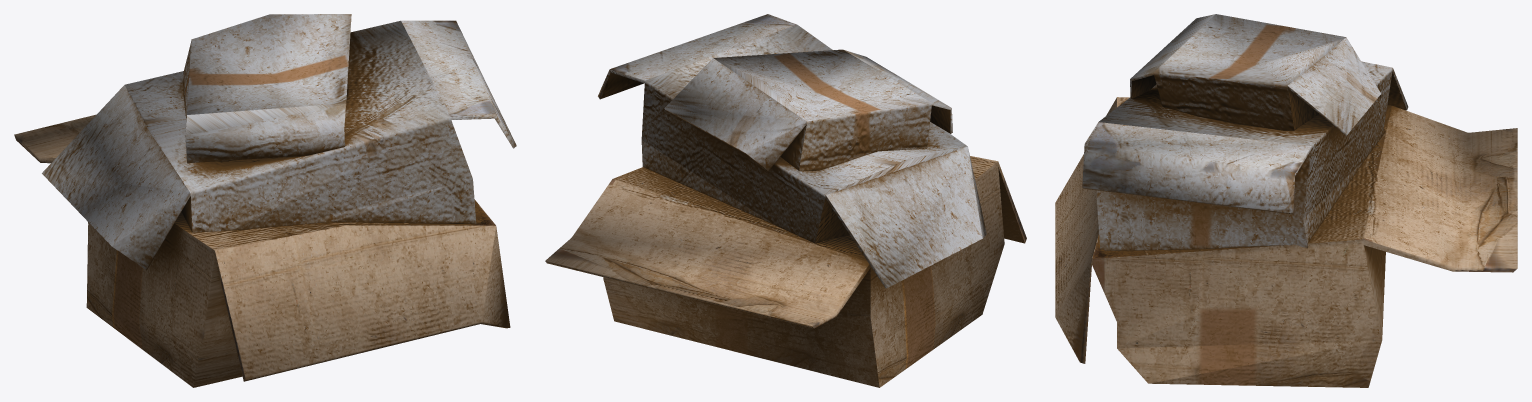
Rendered from rubbish1.fbx.
The picture shows the model from 3 angles, left to right: view 1: azimuth 30°, elevation 25°; view 2: azimuth 150°, elevation 25°; view 3: azimuth 270°, elevation 25°; orthographic projection. The views are drawn at different scales.
Parts seen in each view (by area): view 1: rubish1_LOD0; view 2: rubish1_LOD0; view 3: rubish1_LOD0.
Part boxes in pixels (x1,y1,x2,y2): rubish1_LOD0: (14, 14, 516, 387); rubish1_LOD0: (545, 14, 1026, 387); rubish1_LOD0: (1055, 14, 1517, 387).
Size of what is drawn, in the model's own units: 1.6 by 1.09 by 1.66.
